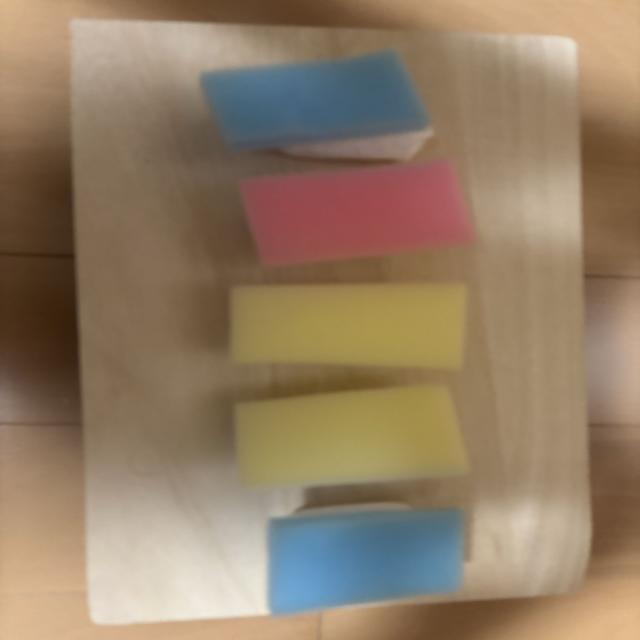NG: (201, 50, 433, 160)
ika: (268, 508, 465, 615)
tai: (240, 159, 475, 266)
tamago: (234, 384, 469, 488), (230, 282, 467, 369)
